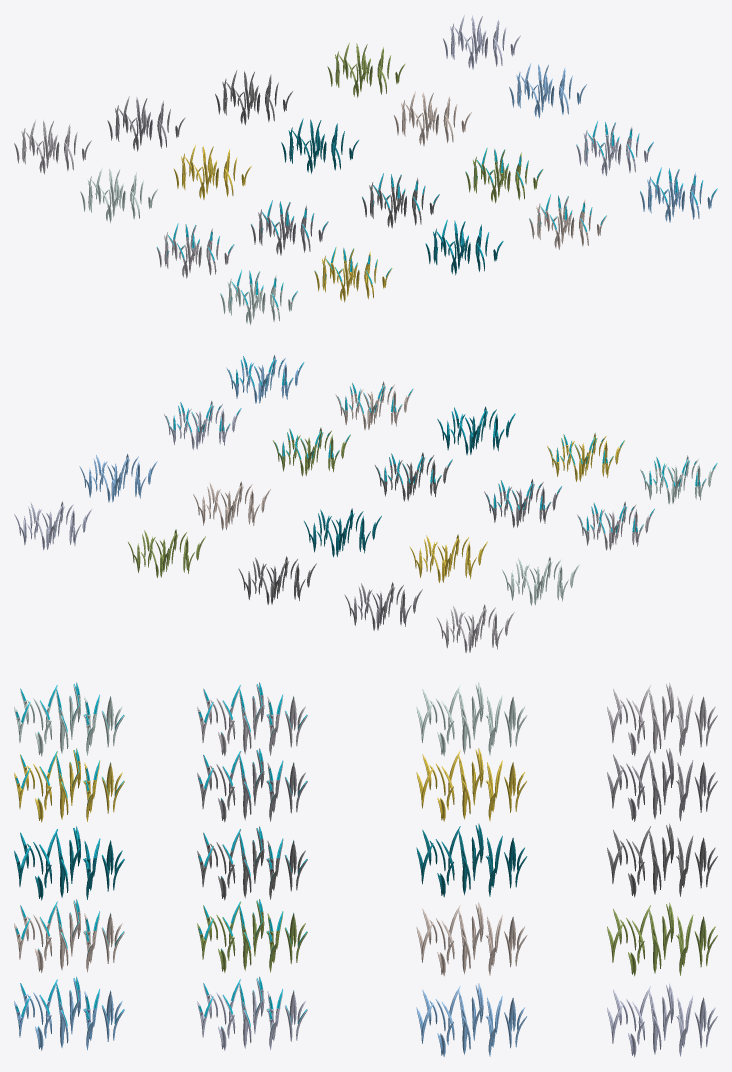
The model's file is grass.fbx.
3 views of the same model, one above another, from view 1: azimuth 30°, elevation 25°; view 2: azimuth 150°, elevation 25°; view 3: azimuth 270°, elevation 25° (orthographic). The views are drawn at different scales.
Parts seen in each view (by area): view 1: Grass.006, Grass.017, Grass.018, Grass.007, Grass.009, Grass.016, Grass.019, Grass.010, Grass.020, Grass.008, Grass.003, Grass.002 (+8 smaller); view 2: Grass.009, Grass.010, Grass.017, Grass.008, Grass.007, Grass.006, Grass.016, Grass.019, Grass.020, Grass.018, Grass.003, Grass.011 (+8 smaller); view 3: Grass.010, Grass.006, Grass.009, Grass.018, Grass.007, Grass.008, Grass.017, Grass.016, Grass.020, Grass.019, Grass.012, Grass.014 (+8 smaller).
Part boxes in pixels (box(x1,y1,x2,y2)): Grass.006: box(156, 223, 234, 278); Grass.017: box(314, 246, 392, 302); Grass.018: box(425, 219, 503, 275); Grass.007: box(250, 200, 328, 255); Grass.009: box(465, 147, 543, 203); Grass.016: box(220, 269, 298, 325); Grass.019: box(529, 194, 606, 249); Grass.010: box(576, 121, 653, 176); Grass.020: box(640, 167, 717, 222); Grass.008: box(362, 173, 439, 228); Grass.003: box(327, 42, 405, 97); Grass.002: box(215, 70, 292, 125); Grass.009: box(272, 427, 350, 476); Grass.010: box(163, 400, 241, 449); Grass.017: box(547, 432, 624, 481); Grass.008: box(374, 452, 452, 501); Grass.007: box(484, 479, 562, 527); Grass.006: box(577, 501, 654, 550); Grass.016: box(639, 455, 717, 504); Grass.019: box(335, 381, 413, 430); Grass.020: box(226, 355, 304, 403); Grass.018: box(437, 406, 515, 455); Grass.003: box(127, 529, 205, 577); Grass.011: box(410, 534, 487, 582); Grass.010: box(197, 976, 307, 1050); Grass.006: box(197, 682, 307, 756); Grass.009: box(197, 899, 307, 972); Grass.018: box(14, 826, 124, 900); Grass.007: box(197, 748, 307, 822); Grass.008: box(197, 826, 307, 900); Grass.017: box(14, 748, 124, 822); Grass.016: box(14, 682, 124, 756); Grass.020: box(14, 976, 124, 1050); Grass.019: box(14, 899, 124, 972); Grass.012: box(416, 823, 527, 897); Grass.014: box(416, 682, 527, 756).
Bounding box in the file's own units: 12.25 × 10.53 × 0.7268.
